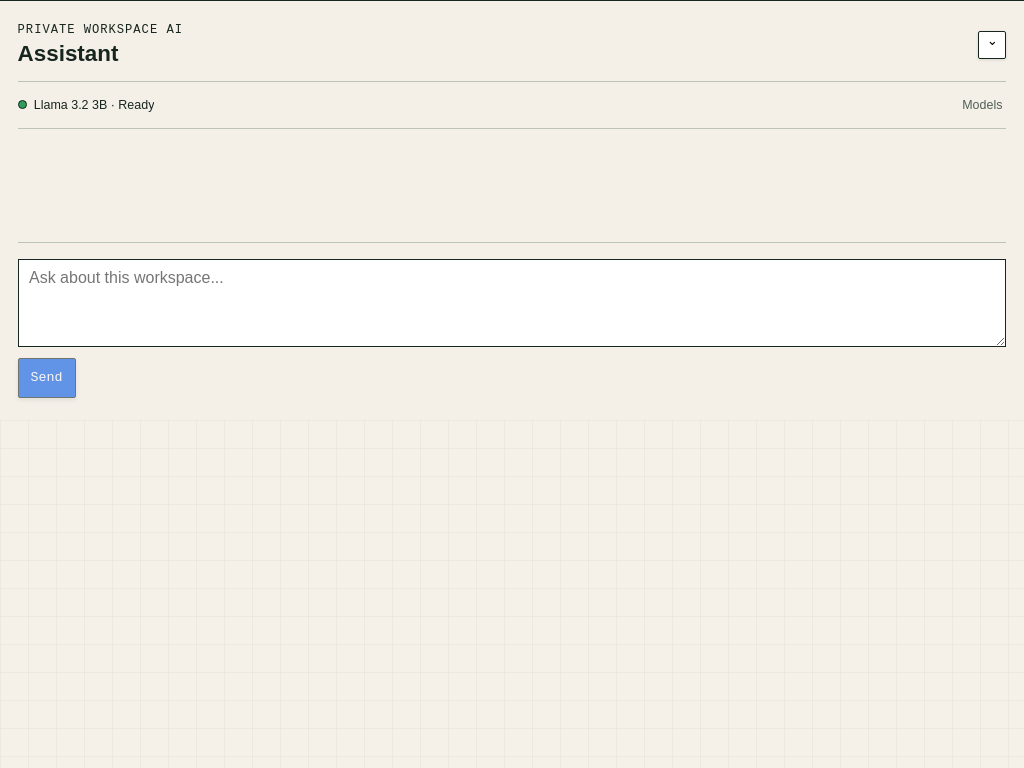
Test: AssistantPanel › shows a proposed change and sends approval explicitly
Type "Create a draft" into the text box named "Ask the workspace assistant". click: (512, 303)
box: [18,259,1006,347]
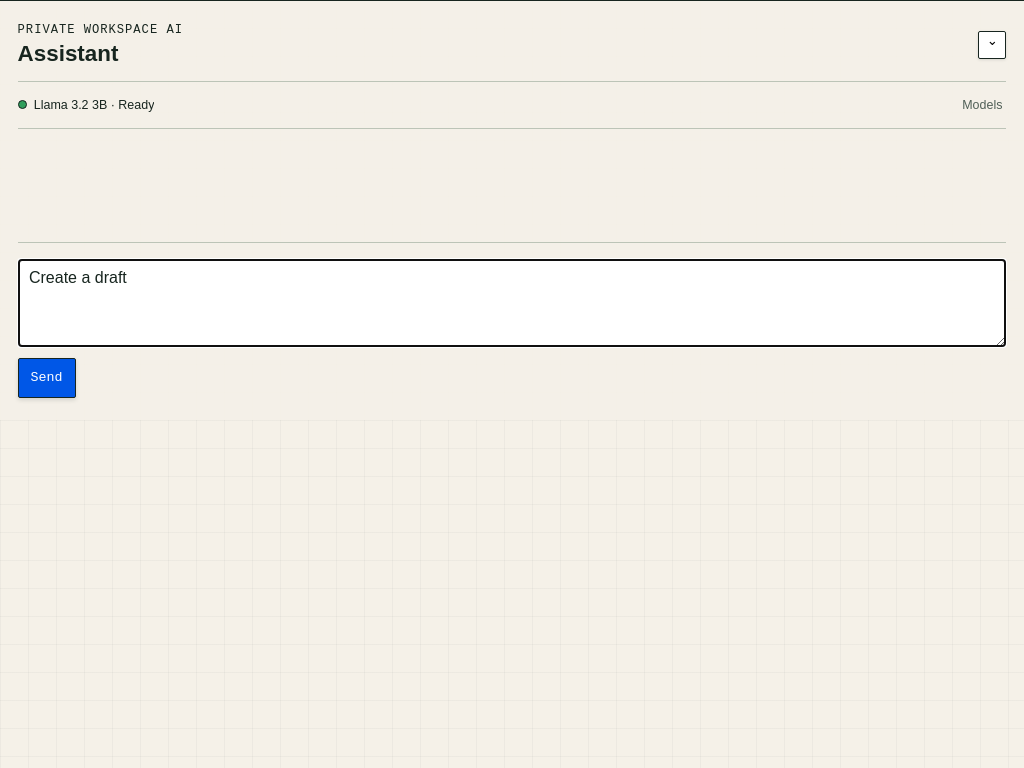
Click the button "Send". click: (47, 378)
box: [18,358,76,398]
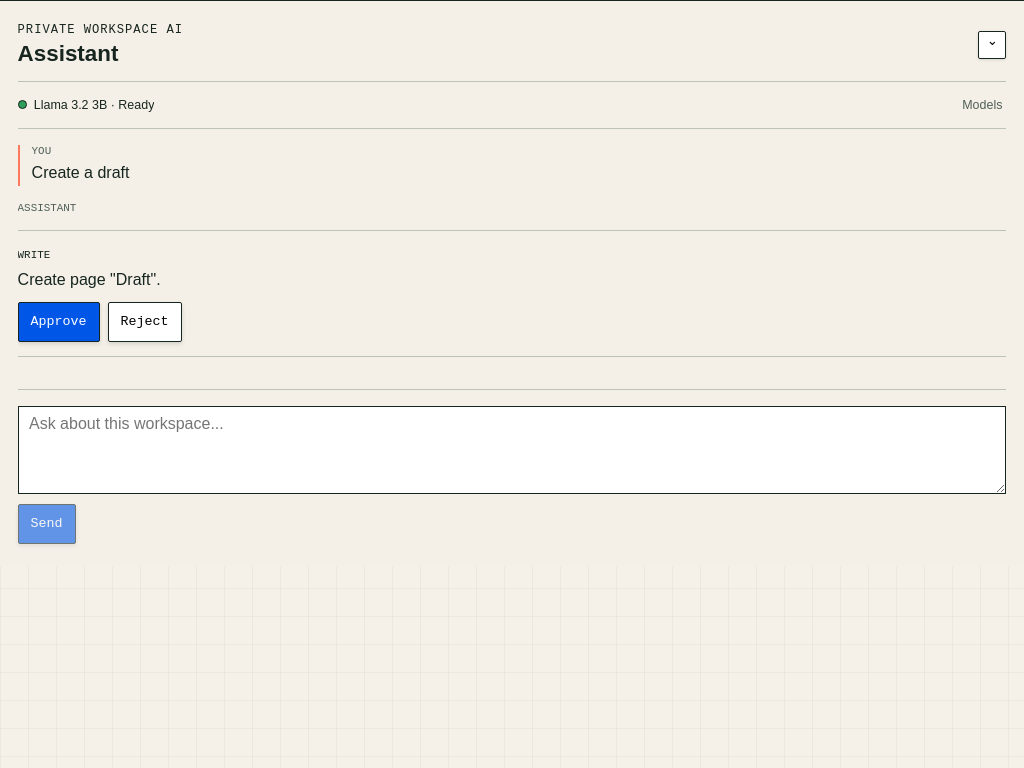
Result: the text "Create page \"Draft\"." is shown at [18,271,161,288]
Click the button "Approve". click: (59, 322)
box: [18,302,100,342]
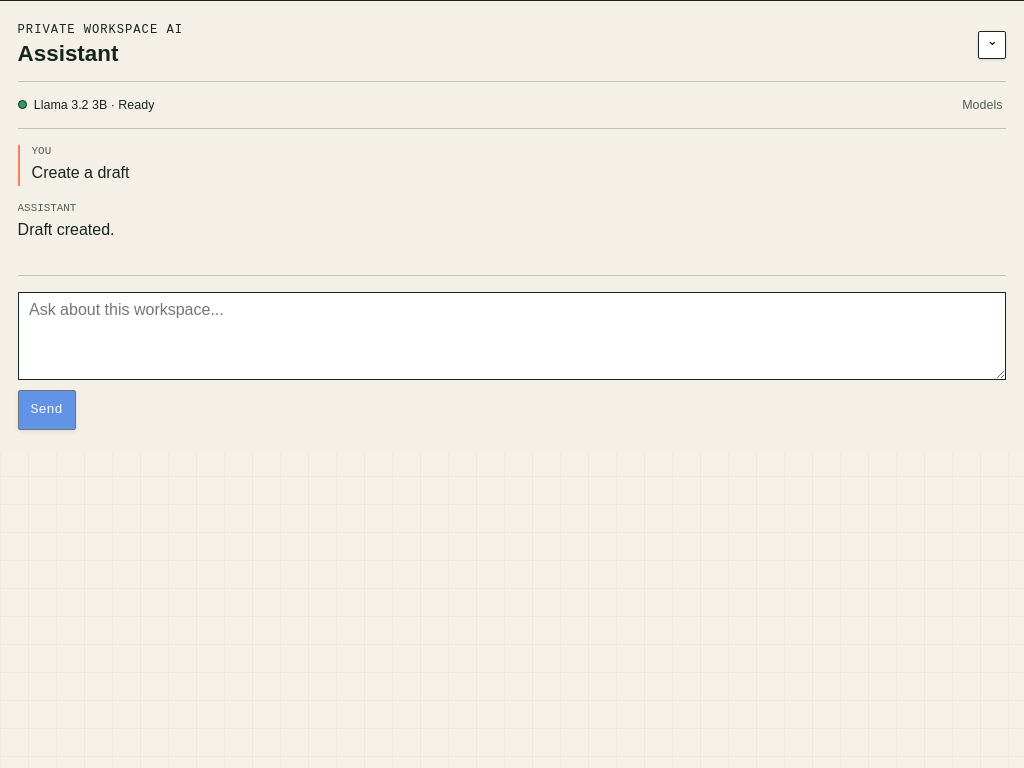
Result: the text "Create a draft" is shown at [32,164,129,181]
Result: the text "Draft created." is shown at [18,221,114,238]
